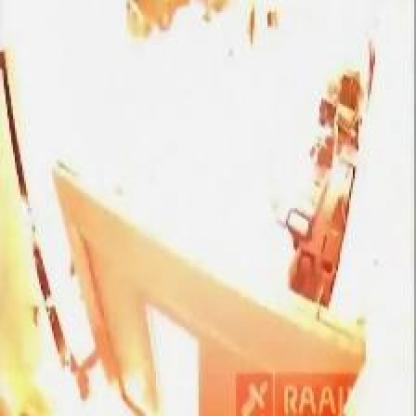fire: (2, 2, 382, 310)
